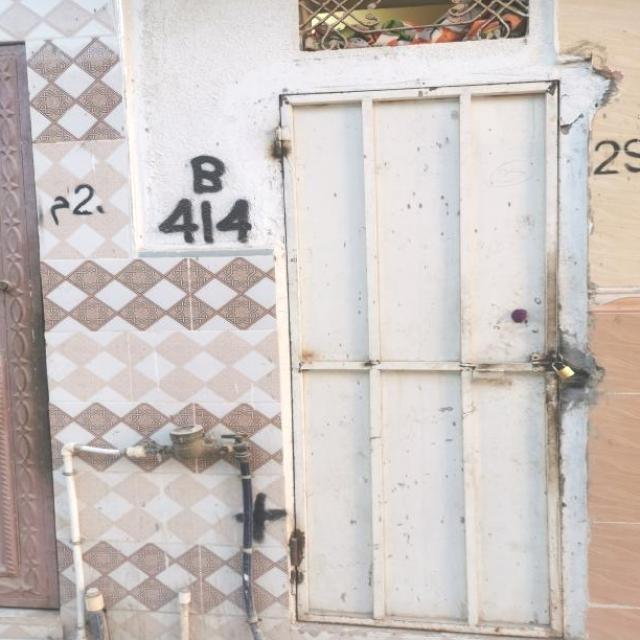door: (278, 79, 563, 637)
